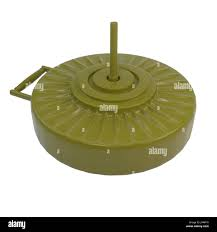car: (0, 6, 211, 187)
